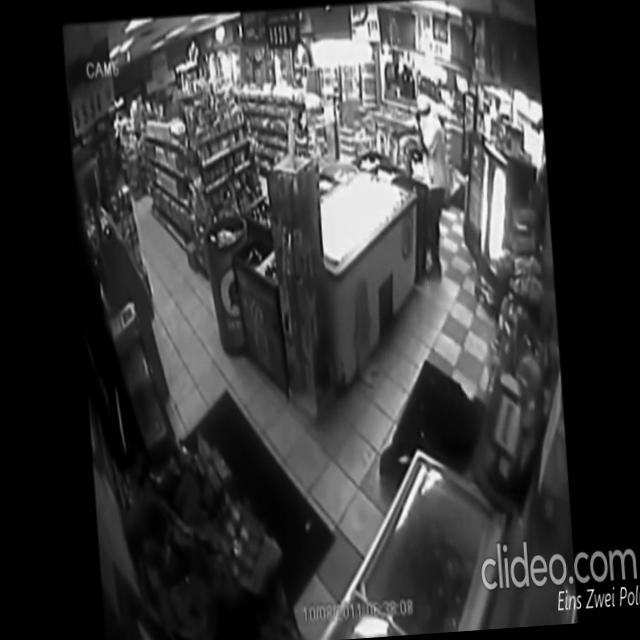person: (396, 91, 458, 288)
